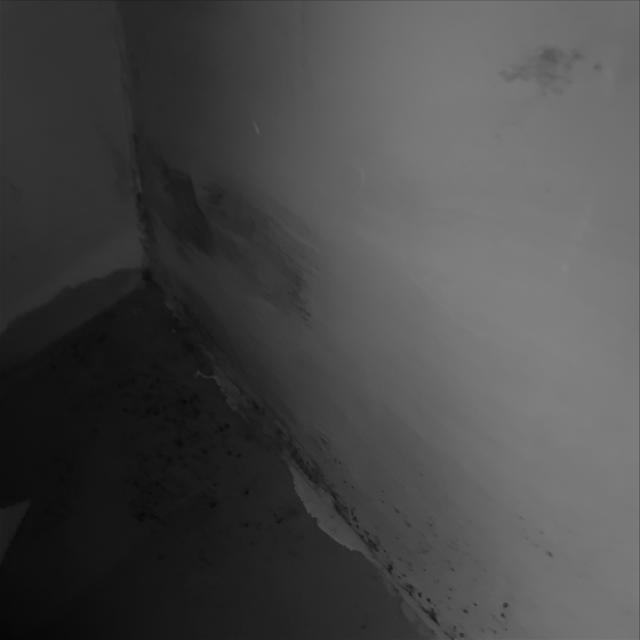stain marks: (290, 388, 568, 640), (137, 132, 336, 328), (494, 31, 608, 114), (94, 126, 139, 240), (0, 139, 33, 241)
